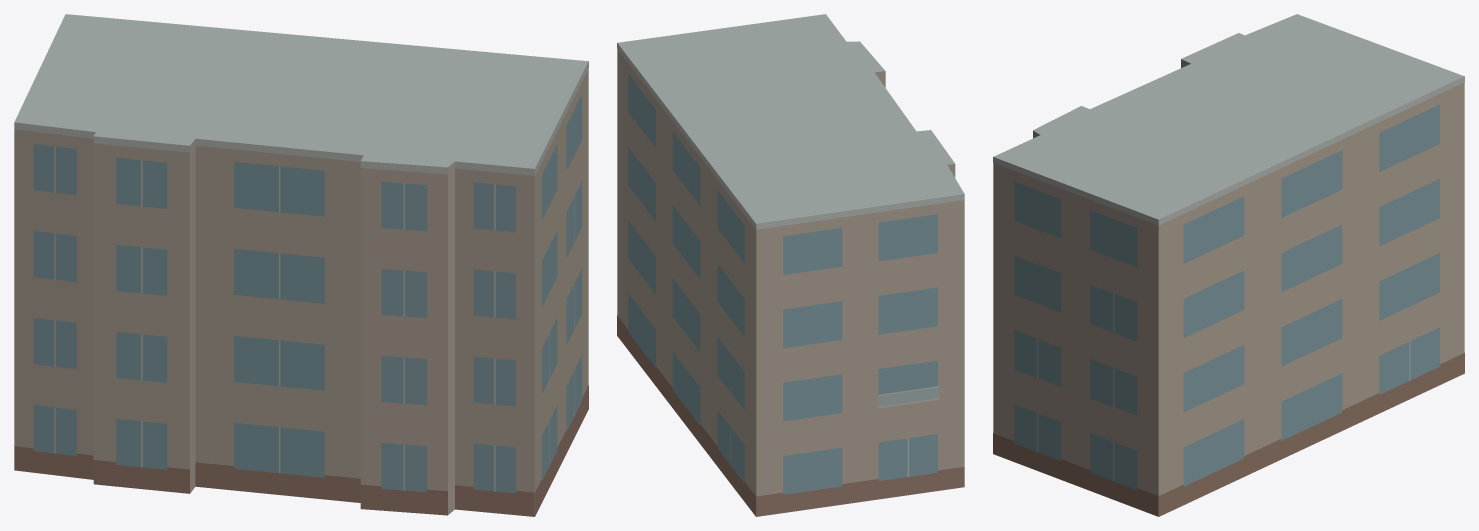
File: survey-upis-33003305.glb
The picture shows the model from 3 angles, left to right: view 1: azimuth 30°, elevation 25°; view 2: azimuth 150°, elevation 25°; view 3: azimuth 270°, elevation 25°; orthographic projection. The views are drawn at different scales.
Visible parts, largest first — view 1: survey-upis-33003305.tmp; view 2: survey-upis-33003305.tmp; view 3: survey-upis-33003305.tmp.
Boxes of the visible parts, x1,y1,x2,y2 form: survey-upis-33003305.tmp: [14, 14, 588, 516]; survey-upis-33003305.tmp: [617, 14, 964, 516]; survey-upis-33003305.tmp: [993, 14, 1464, 516].
Bounding box in the file's own units: 18.12 × 12.2 × 17.55.
